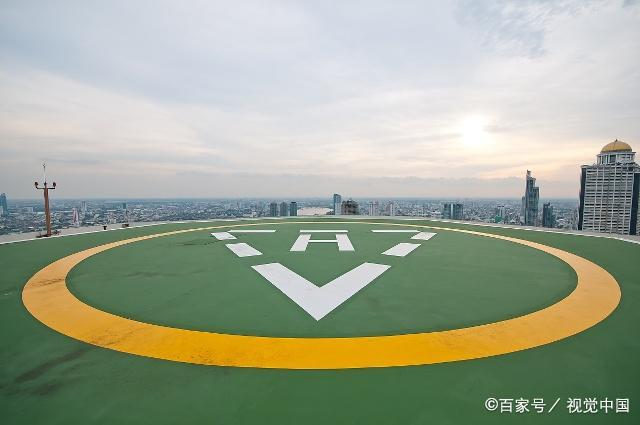H: (288, 234, 356, 252)
